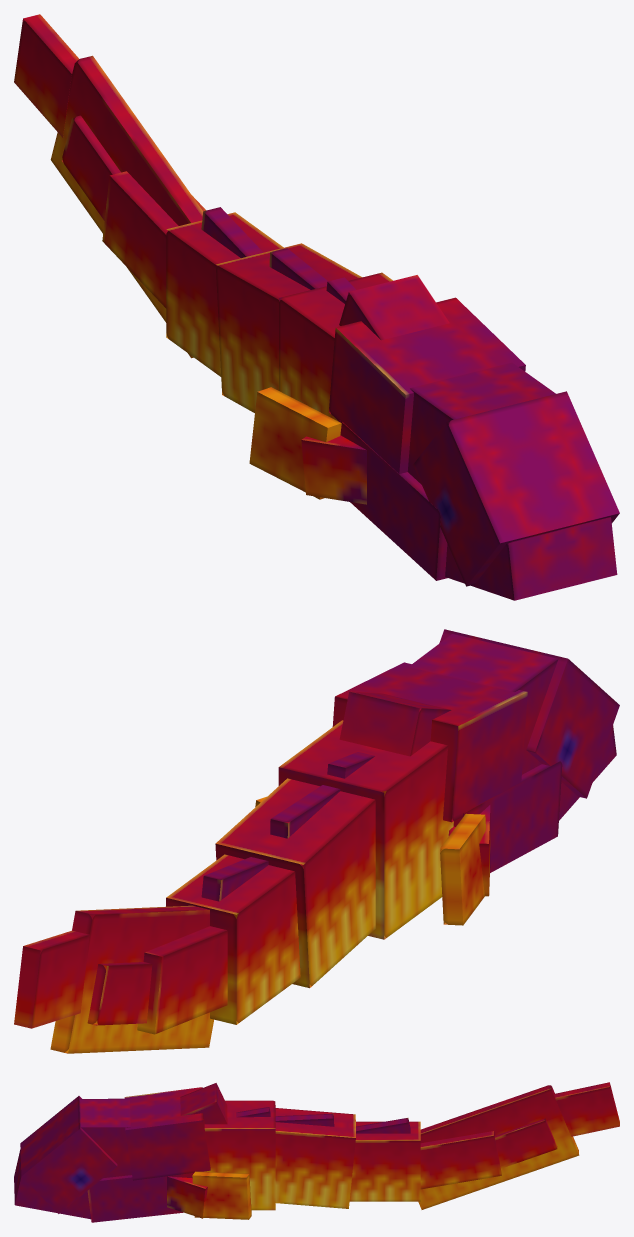
Rendered from cephignis.obj.
3 renders of one model, top to bottom at view 1: azimuth 30°, elevation 25°; view 2: azimuth 150°, elevation 25°; view 3: azimuth 270°, elevation 25°, orthographic. The views are drawn at different scales.
Visible parts, largest first — view 1: Head, Body, ArmRight; view 2: Body, Head, ArmRight; view 3: Body, Head, ArmLeft.
Boxes of the visible parts, x1=… form: Head: x1=329, y1=275, x2=619, y2=600; Body: x1=14, y1=14, x2=392, y2=421; ArmRight: x1=249, y1=387, x2=366, y2=504; Body: x1=14, y1=720, x2=453, y2=1053; Head: x1=332, y1=629, x2=619, y2=872; ArmRight: x1=440, y1=805, x2=490, y2=925; Body: x1=202, y1=1082, x2=619, y2=1210; Head: x1=14, y1=1083, x2=227, y2=1222; ArmLeft: x1=167, y1=1171, x2=251, y2=1219.
Size of the model in its own units: 1.15 by 1.13 by 5.06.
